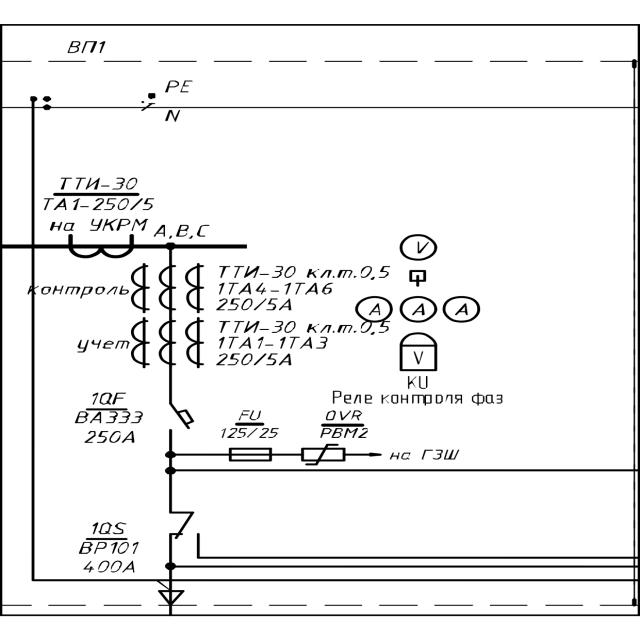-: (211, 317, 390, 370), (214, 262, 390, 314), (329, 374, 506, 406), (40, 196, 155, 233), (74, 406, 143, 446), (75, 541, 139, 576), (151, 219, 213, 239), (219, 426, 282, 441), (66, 37, 111, 57), (315, 426, 373, 440)
FU: (224, 445, 276, 464)
FV: (298, 440, 348, 468)
PA: (443, 297, 483, 324), (354, 295, 393, 322), (398, 295, 437, 322)
PV: (398, 331, 441, 373), (396, 233, 439, 262)
QF: (163, 400, 194, 438)
TT: (128, 263, 207, 315), (130, 317, 207, 369), (64, 233, 140, 262)
switch: (167, 510, 202, 541)
